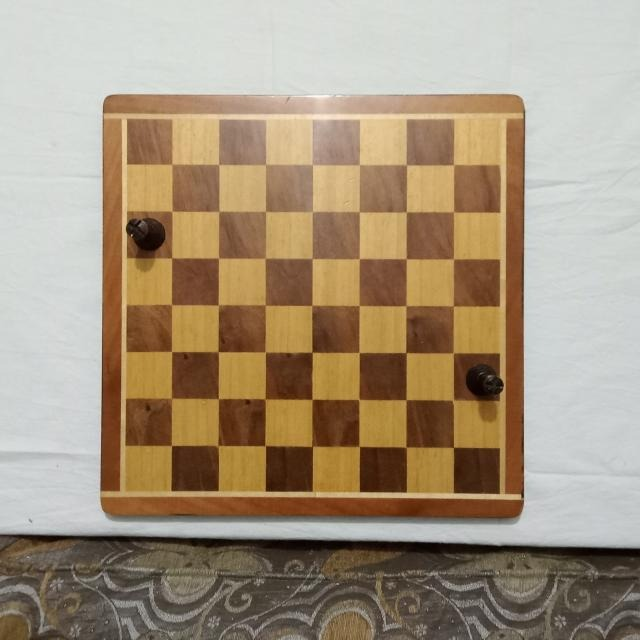black-rook: (124, 215, 165, 253), (465, 361, 506, 397)
